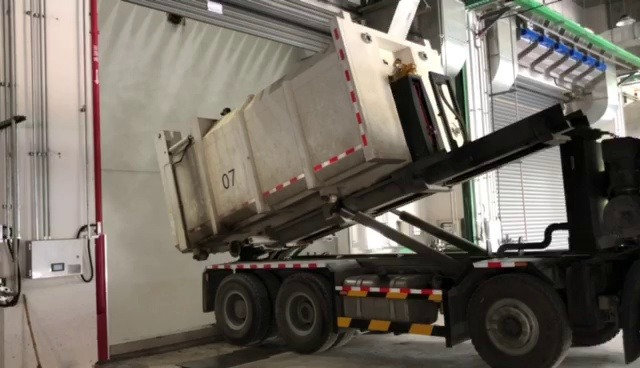truck: (149, 13, 640, 365)
